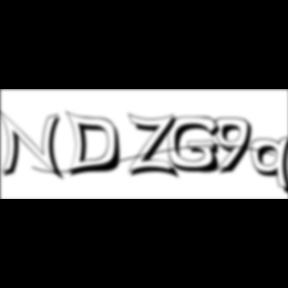9: (214, 117, 258, 177)
D: (64, 110, 128, 180)
G: (168, 116, 228, 176)
N: (0, 109, 68, 183)
Z: (128, 112, 183, 181)
